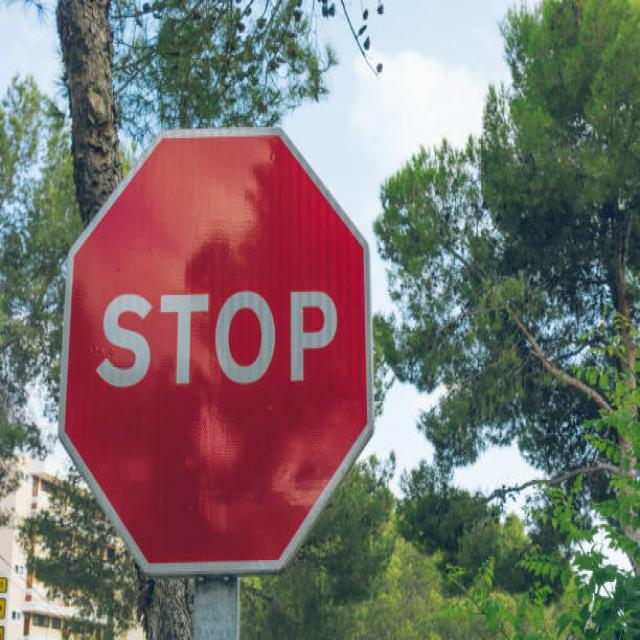stop: (54, 117, 382, 579)
